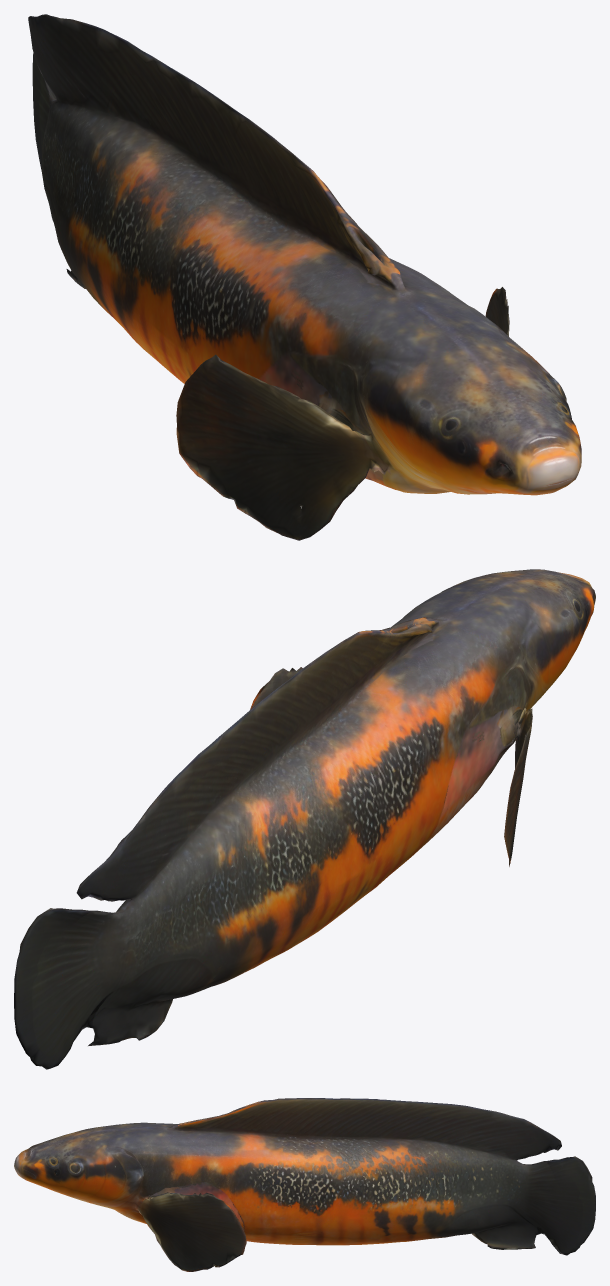
File: channa_maru_0604062841_texture.glb
3 renders of one model, top to bottom at view 1: azimuth 30°, elevation 25°; view 2: azimuth 150°, elevation 25°; view 3: azimuth 270°, elevation 25°, orthographic. The views are drawn at different scales.
Size of the model in its own units: 0.6085 by 0.5598 by 1.99.
1 material, 1 textured.
